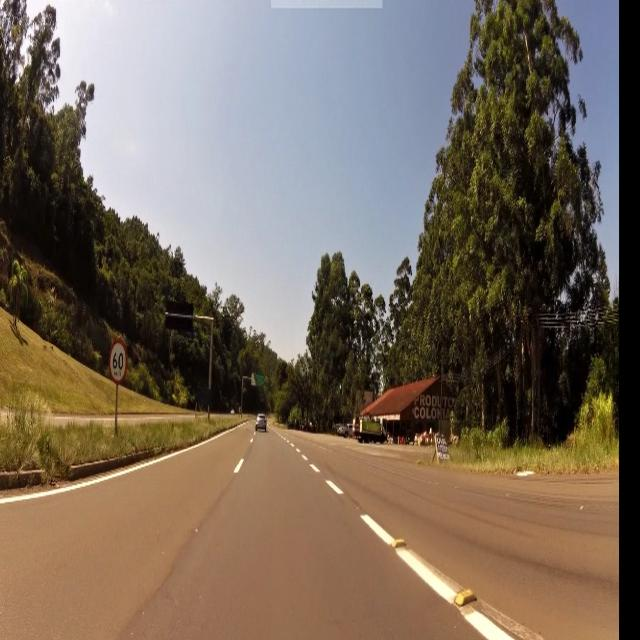R-19: (111, 338, 127, 385)
